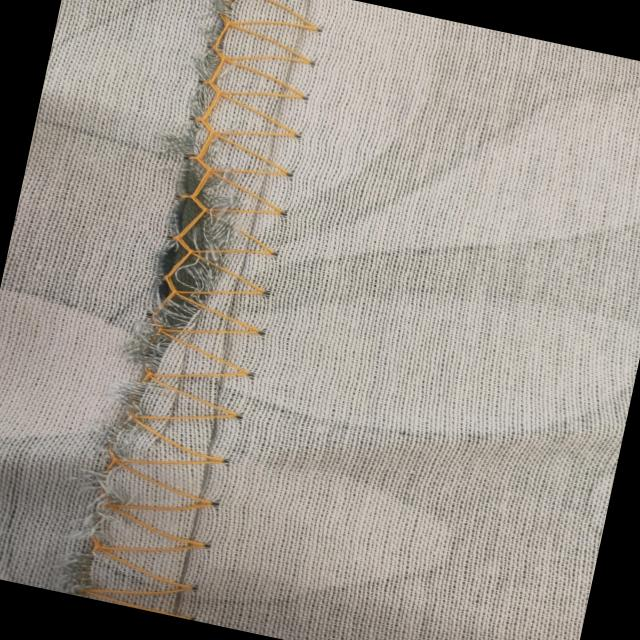gray stitch: (74, 0, 339, 623)
